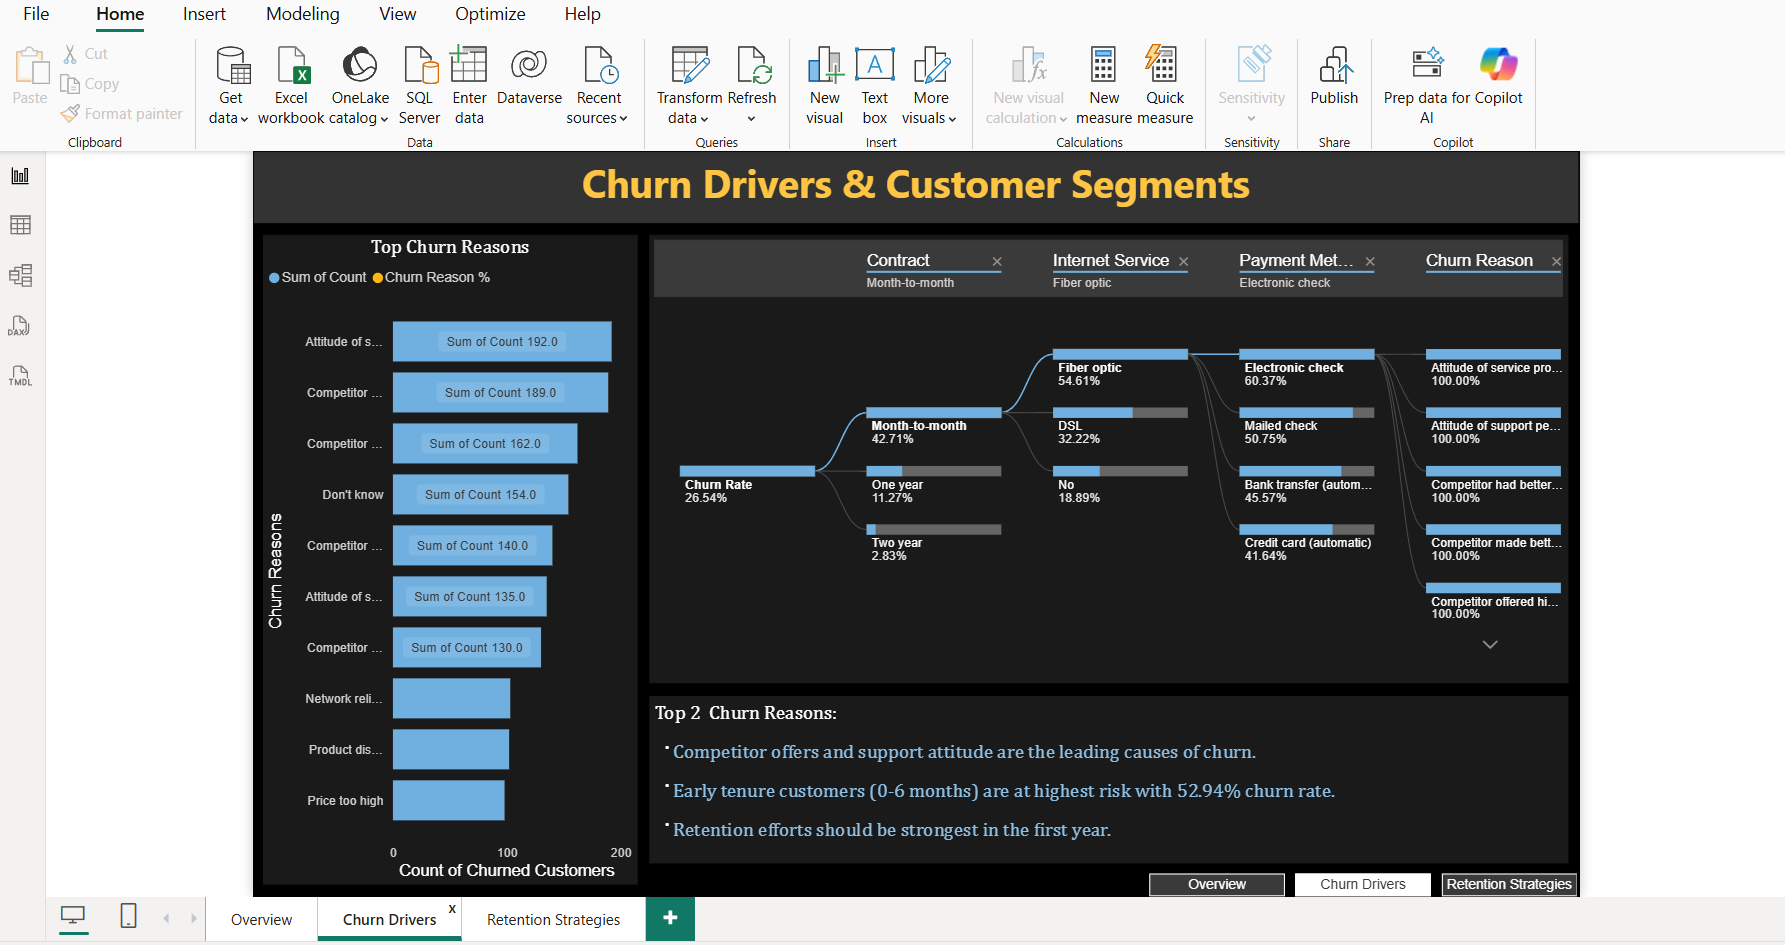

This screenshot's page, from the dashboard's own definition file:
{"tool":"powerbi","page":{"name":"Churn Drivers","canvas":[1280,720],"ordinal":1},"visuals":[{"type":"decompositionTreeVisual","title":"Interactive Churn Rate Breakdown","fields":{"Analyze":["Telco_Customer_churn.Churn Rate"],"ExplainBy":["Telco_Customer_churn.Contract","Telco_Customer_churn.Internet Service","Telco_Customer_churn.Payment Method","Telco_Customer_churn.Churn Reason","Telco_Customer_churn.Senior Citizen"]},"box":[382.9,81.4,887.1,432.9],"z":0},{"type":"barChart","title":"Top Churn Reasons","fields":{"Category":["Telco_Customer_churn.Churn Reason"],"Y":["Sum(Telco_Customer_churn.Count)","Telco_Customer_churn.Churn Reason %"]},"box":[10,81.4,361.4,627.1],"z":1000},{"type":"textbox","box":[0,0,1280,70],"z":2000},{"type":"textbox","box":[382.5,526.2,887.5,161.2],"z":3000},{"type":"pageNavigator","box":[865,697.5,415,22.5],"z":4000}]}

Visuals, with their boxes on the page's 1280x720 design canvas (x1, y1, x2, y2). These are canvas units, not pixel positions in the 1785x945 screenshot, which may show the page scaled, cropped or inside an application window:
"Interactive Churn Rate Breakdown" decompositionTreeVisual: 383,81,1270,514
"Top Churn Reasons" barChart: 10,81,371,708
textbox: 0,0,1280,70
textbox: 382,526,1270,687
pageNavigator: 865,698,1280,720
